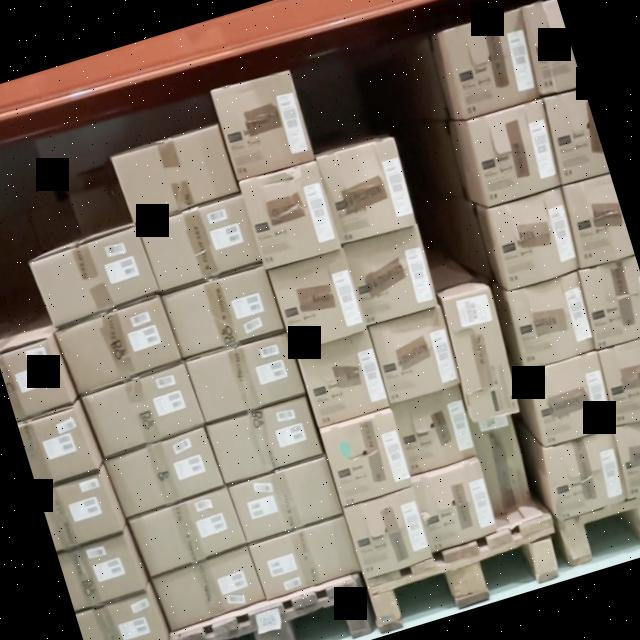box: (31, 225, 159, 326), (112, 125, 238, 224), (210, 69, 316, 184), (140, 198, 264, 294), (57, 297, 180, 392), (163, 267, 283, 359), (185, 332, 304, 423), (83, 364, 202, 455), (316, 137, 416, 243), (444, 8, 539, 118), (208, 396, 324, 486), (240, 162, 340, 266), (442, 289, 520, 422), (106, 427, 224, 514), (270, 249, 368, 353), (131, 486, 245, 575), (468, 99, 561, 207), (345, 226, 439, 325), (230, 458, 340, 542), (153, 546, 263, 629), (368, 307, 461, 402), (298, 336, 391, 430), (250, 519, 360, 598), (344, 488, 436, 582), (492, 188, 579, 286), (321, 412, 412, 502), (528, 350, 613, 444), (509, 274, 595, 366), (543, 431, 630, 518), (413, 462, 499, 550), (392, 388, 478, 473)
